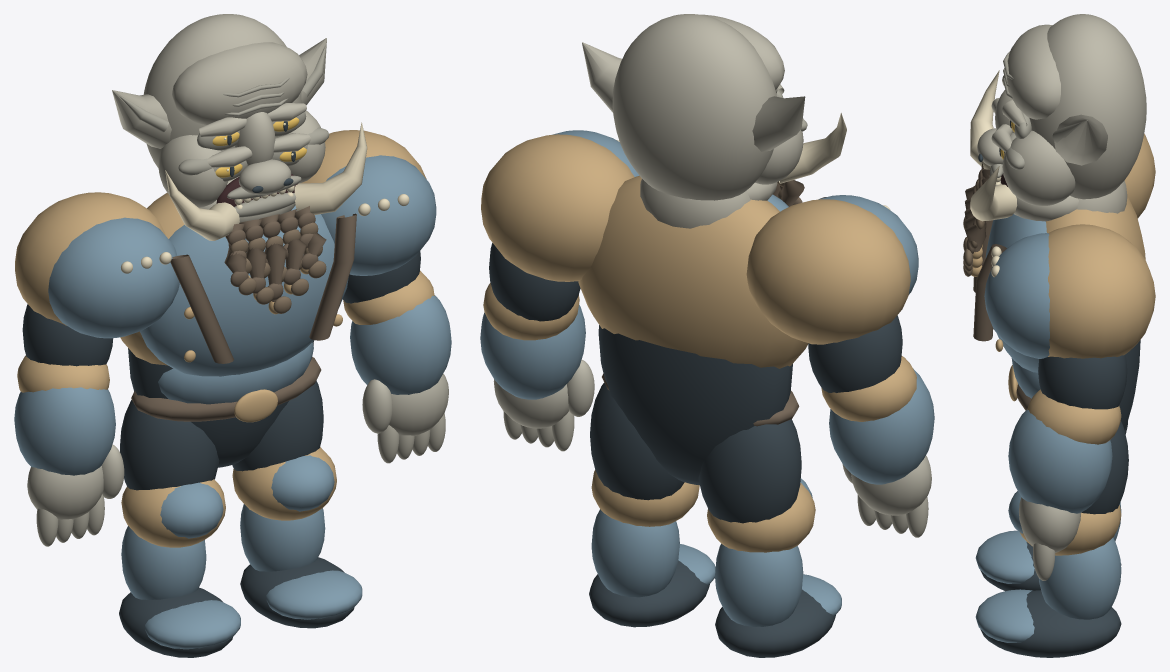
Rendered from grek.glb.
3 renders of one model, left to right at view 1: azimuth 30°, elevation 25°; view 2: azimuth 150°, elevation 25°; view 3: azimuth 270°, elevation 25°, orthographic. The views are drawn at different scales.
Parts seen in each view (by area): view 1: breastplate, shoulder plate -1, shoulder plate 1, gauntlet -1, forehead, gauntlet 1, shoulder rim -1, thigh -1, cranium, shin -1, shin 1, belly armour (+39 smaller); view 2: breastplate rim, cranium, shoulder rim -1, undersuit, shoulder rim 1, thigh -1, gauntlet -1, shin -1, shin 1, gauntlet 1, thigh 1, upper arm -1 (+20 smaller); view 3: shoulder rim 1, cranium, gauntlet 1, shoulder plate 1, shin 1, boot 1, upper arm 1, forehead, cheek 1, elbow 1, boot toe 1, boot toe -1 (+23 smaller).
Part boxes in pixels (left/top/right/bottom): breastplate: left=140, top=205, right=348, bottom=376; shoulder plate -1: left=48, top=217, right=179, bottom=338; shoulder plate 1: left=321, top=155, right=436, bottom=275; gauntlet -1: left=14, top=387, right=115, bottom=475; forehead: left=172, top=42, right=307, bottom=124; gauntlet 1: left=350, top=295, right=451, bottom=394; shoulder rim -1: left=15, top=192, right=165, bottom=325; thigh -1: left=120, top=400, right=219, bottom=490; cranium: left=143, top=14, right=301, bottom=168; shin -1: left=121, top=526, right=206, bottom=599; shin 1: left=240, top=504, right=325, bottom=571; belly armour: left=158, top=342, right=313, bottom=404; breastplate rim: left=578, top=175, right=808, bottom=368; cranium: left=612, top=14, right=776, bottom=200; shoulder rim -1: left=746, top=199, right=910, bottom=344; undersuit: left=598, top=325, right=792, bottom=485; shoulder rim 1: left=481, top=134, right=634, bottom=281; thigh -1: left=698, top=419, right=801, bottom=523; gauntlet -1: left=829, top=368, right=934, bottom=484; shin -1: left=715, top=543, right=803, bottom=626; shin 1: left=591, top=509, right=679, bottom=597; gauntlet 1: left=480, top=304, right=585, bottom=399; thigh 1: left=590, top=383, right=684, bottom=500; upper arm -1: left=808, top=315, right=902, bottom=392; shoulder rim 1: left=1048, top=224, right=1155, bottom=358; cranium: left=1029, top=14, right=1146, bottom=199; gauntlet 1: left=1008, top=409, right=1112, bottom=513; shoulder plate 1: left=984, top=233, right=1049, bottom=358; shin 1: left=1038, top=537, right=1121, bottom=619; boot 1: left=980, top=590, right=1121, bottom=657; upper arm 1: left=1038, top=355, right=1127, bottom=409; forehead: left=1007, top=24, right=1060, bottom=119; cheek 1: left=1002, top=130, right=1075, bottom=205; elbow 1: left=1027, top=389, right=1121, bottom=444; boot toe 1: left=975, top=589, right=1034, bottom=642; boot toe -1: left=975, top=530, right=1034, bottom=583.
Bounding box in the file's own units: 3.28 × 4.44 × 1.29.
